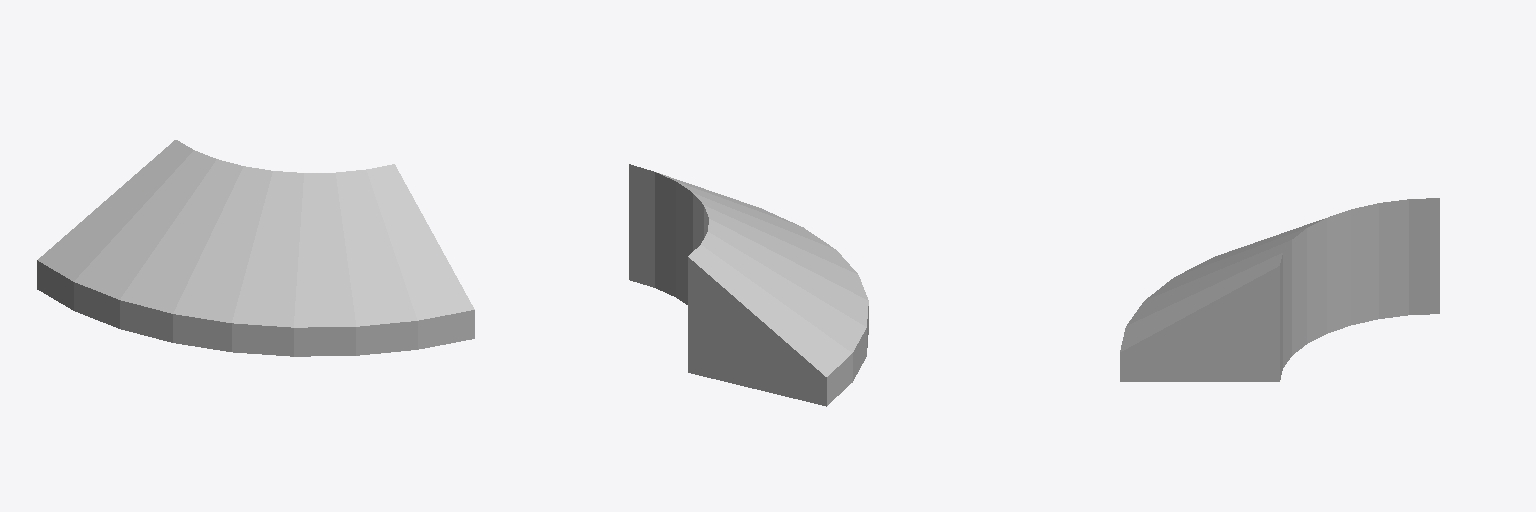
File: big_bend_angled_2.mtl.obj
3 views of the same model, side by side, from view 1: azimuth 30°, elevation 25°; view 2: azimuth 150°, elevation 25°; view 3: azimuth 270°, elevation 25° (orthographic).
Visible parts, largest first — view 1: Cylinder_Cylinder.001; view 2: Cylinder_Cylinder.001; view 3: Cylinder_Cylinder.001.
Boxes of the visible parts, x1,y1,x2,y2 form: Cylinder_Cylinder.001: [37, 140, 474, 356]; Cylinder_Cylinder.001: [629, 164, 868, 406]; Cylinder_Cylinder.001: [1120, 198, 1439, 381].
Size of the model in its own units: 1 by 0.4 by 1.